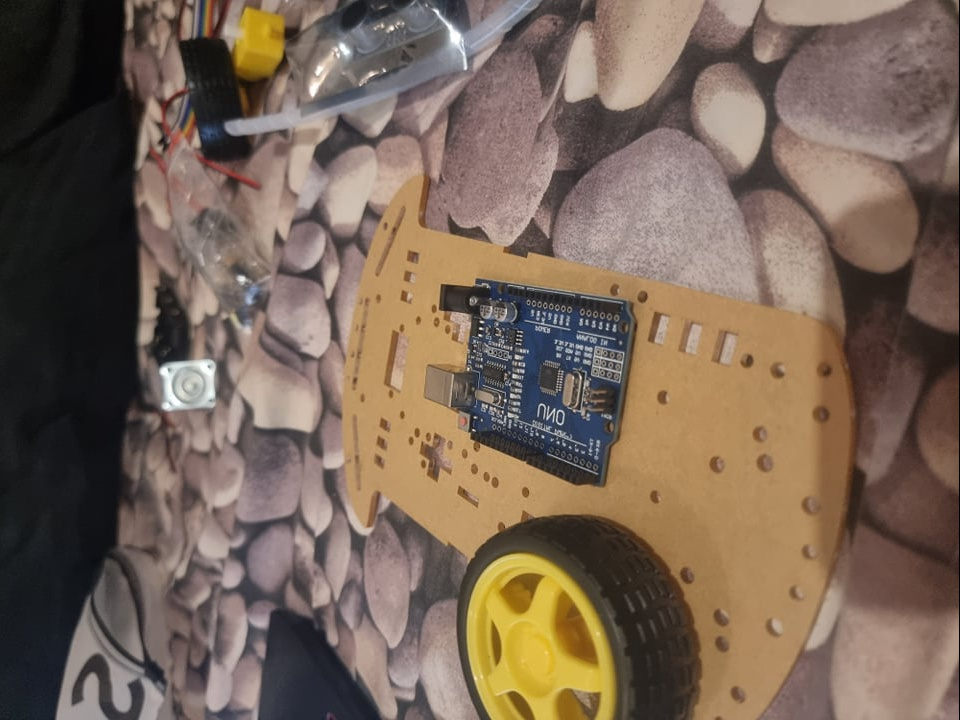BATTERY BOX: (143, 287, 192, 367)
UNO R3: (422, 279, 640, 493)
